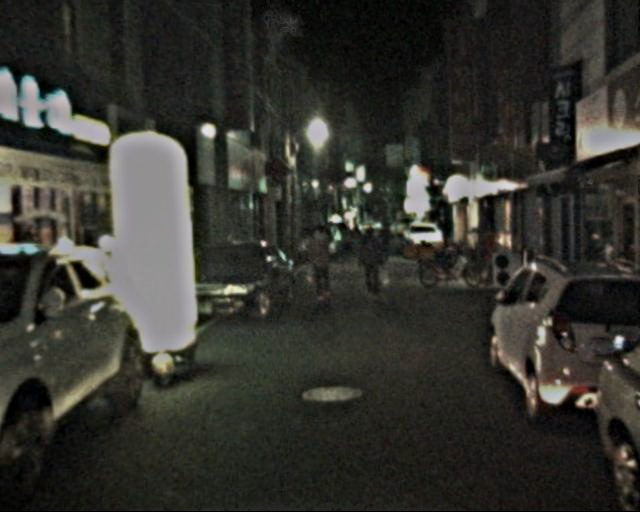person: (352, 222, 386, 304), (303, 225, 335, 304)
